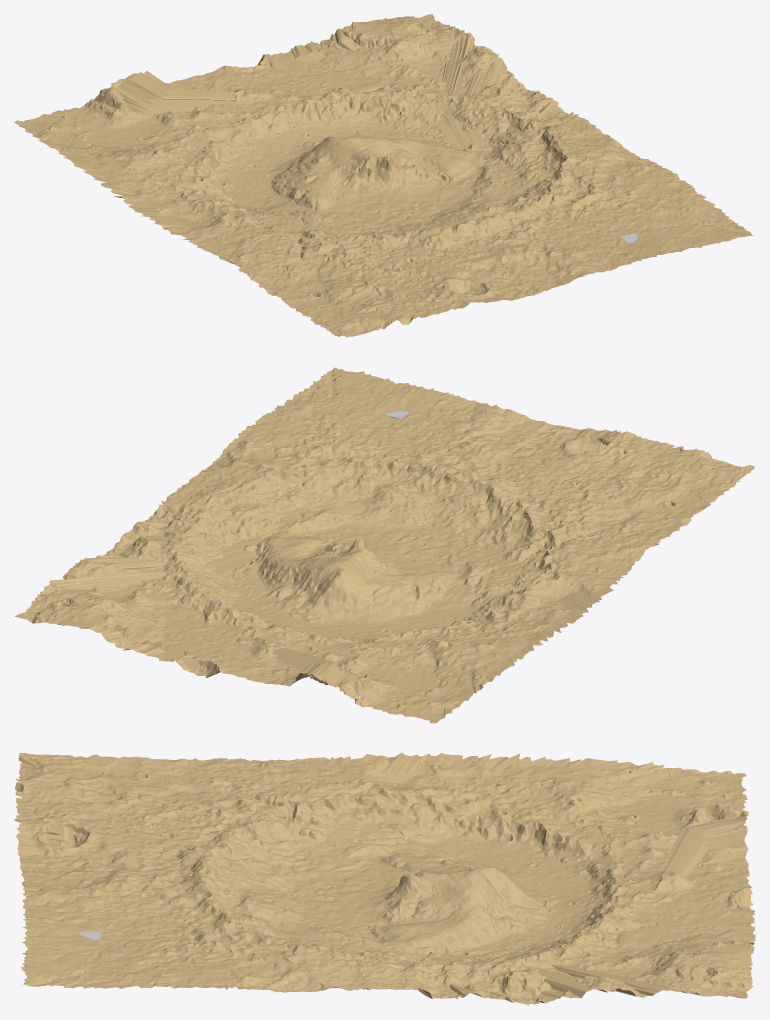
The model's file is gale_crater_lz.dae.
3 views of the same model, one above another, from view 1: azimuth 30°, elevation 25°; view 2: azimuth 150°, elevation 25°; view 3: azimuth 270°, elevation 25° (orthographic). The views are drawn at different scales.
Visible parts, largest first — view 1: Gale_Crater_Half-Size_26K_Smoothed; view 2: Gale_Crater_Half-Size_26K_Smoothed; view 3: Gale_Crater_Half-Size_26K_Smoothed.
Part boxes in pixels (left/top/right/bottom): Gale_Crater_Half-Size_26K_Smoothed: left=14, top=14, right=753, bottom=337; Gale_Crater_Half-Size_26K_Smoothed: left=14, top=367, right=755, bottom=723; Gale_Crater_Half-Size_26K_Smoothed: left=14, top=752, right=755, bottom=1005.
Size of the model in its own units: 55.27 by 71.58 by 5.21.
